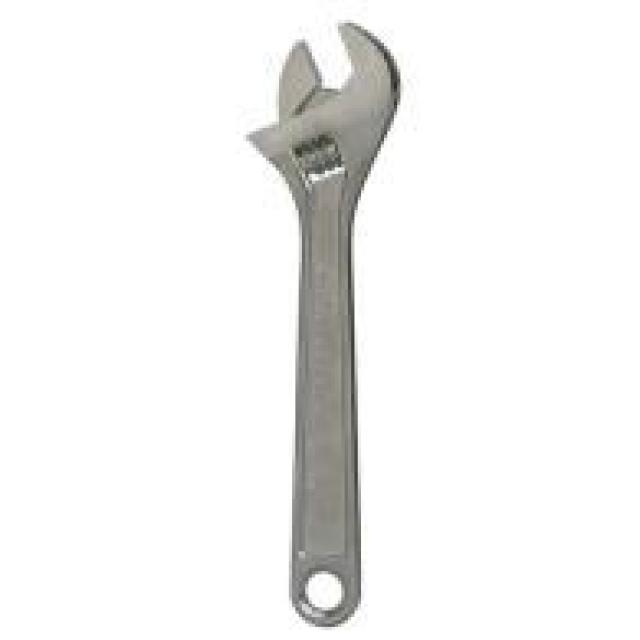wrench: (237, 9, 439, 638)
